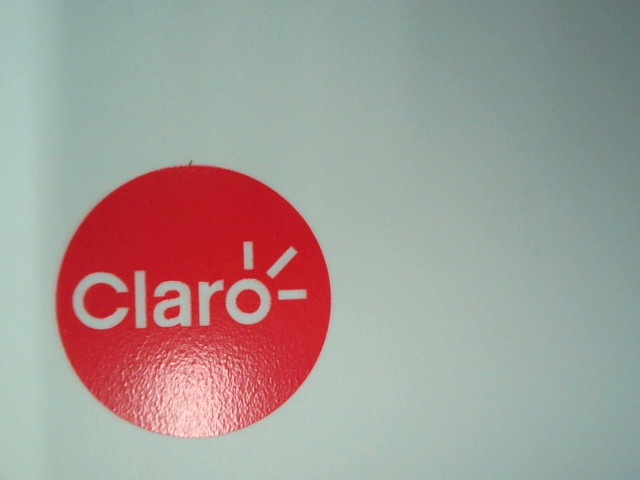BC_ClaorRed: (43, 160, 345, 440)
